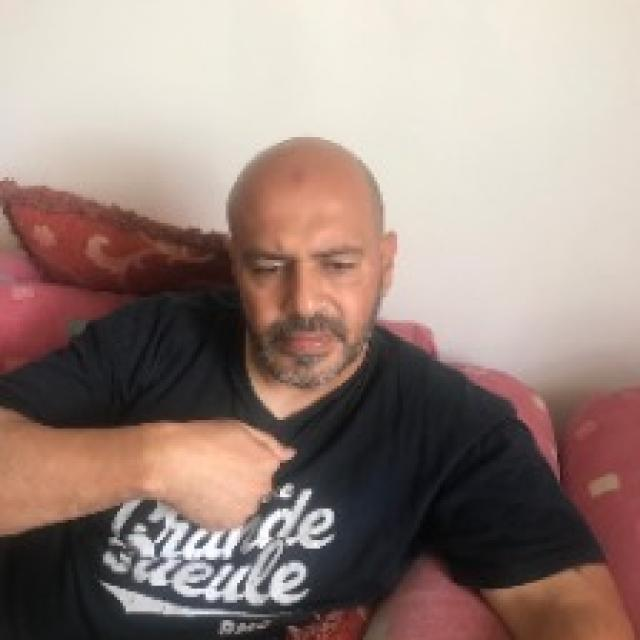me: (150, 413, 300, 534)
